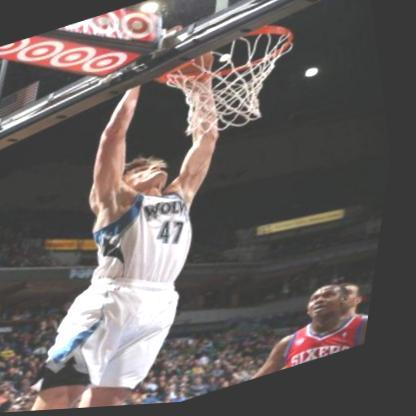basketball: (151, 17, 317, 150)
